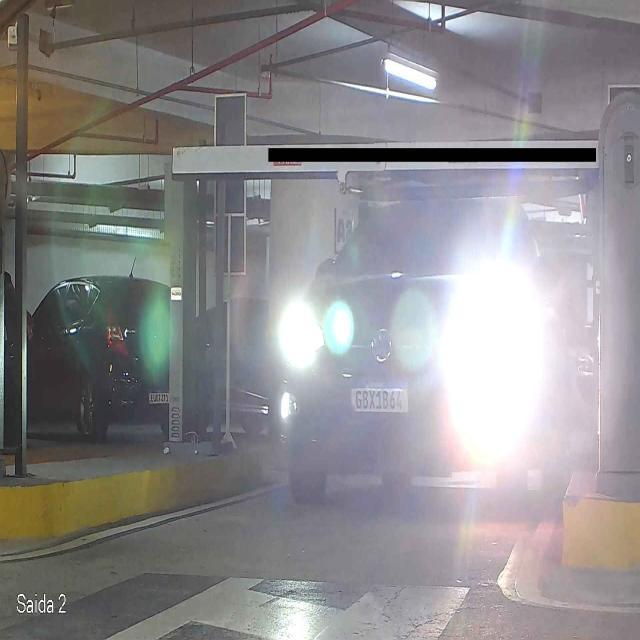mercosul_plate: (349, 381, 410, 415)
